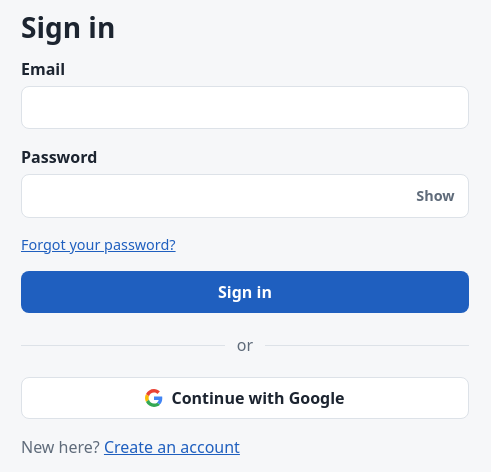
it: LoginPage › shows and hides the typed password
Type "secret#123" into the password field labelled "Password" at (245, 196), box x1=21 y1=174 x2=469 y2=218
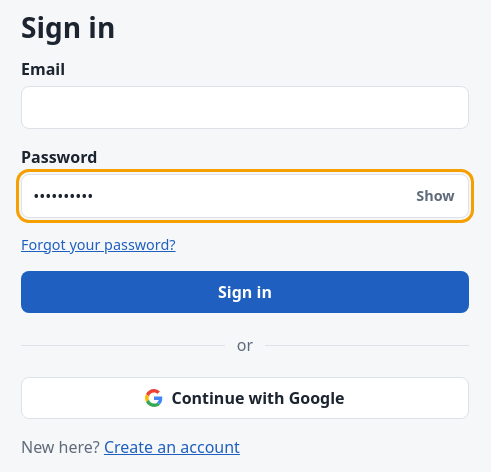
Click the button with aria-label "Show password" at (435, 196), box x1=408 y1=181 x2=463 y2=211
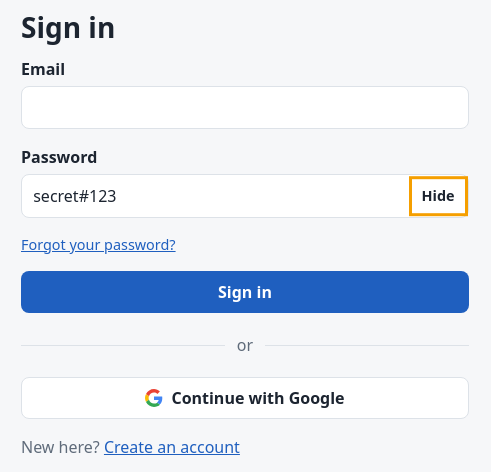
Expected: the field labelled "Password" shows its text, x1=21 y1=174 x2=469 y2=218
Click the button with aria-label "Hide password" at (438, 196), box x1=414 y1=181 x2=463 y2=211
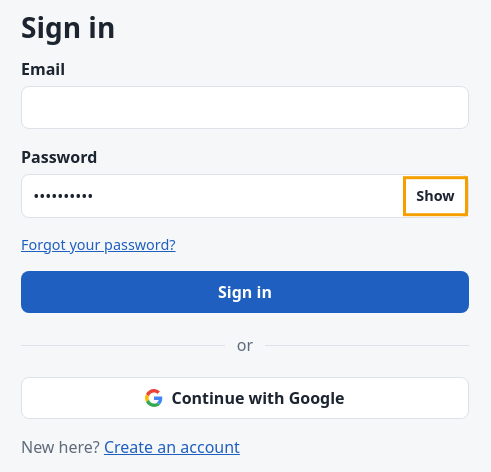
Expected: the password field labelled "Password" hides its text, x1=21 y1=174 x2=469 y2=218
